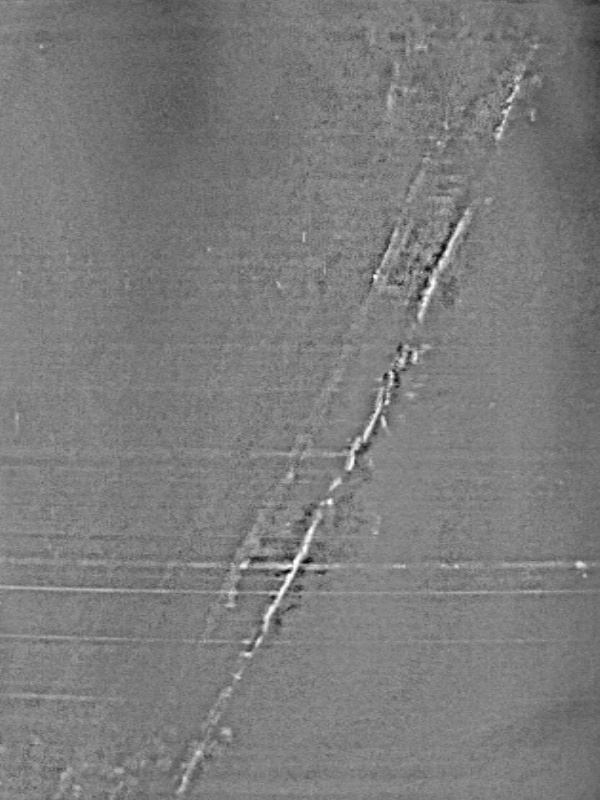splice_vulcanized: (145, 1, 543, 795)
